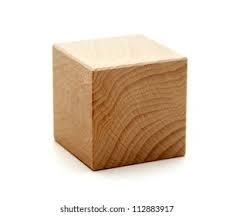cube: (51, 35, 187, 170)
